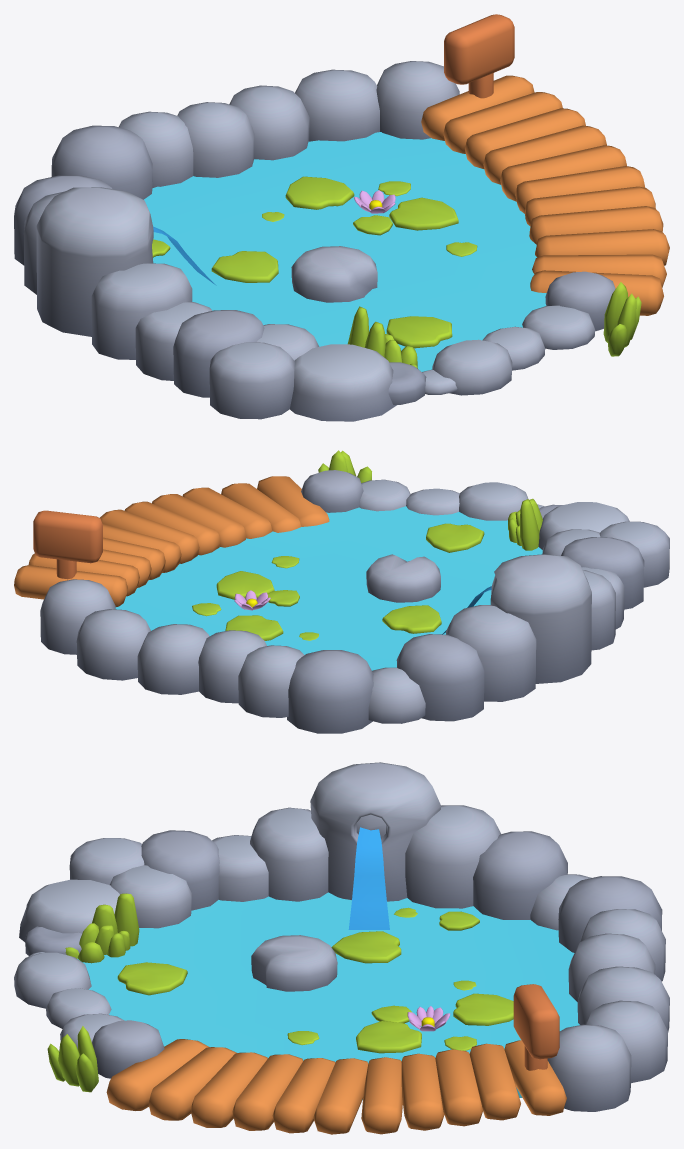
File: Pond.fbx
The picture shows the model from 3 angles, top to bottom: view 1: azimuth 30°, elevation 25°; view 2: azimuth 150°, elevation 25°; view 3: azimuth 270°, elevation 25°; orthographic projection. The views are drawn at different scales.
Visible parts, largest first — view 1: Plane, Cylinder.007, Cylinder.011, Cylinder.008, Cylinder.010, Cylinder.021, Cylinder.005, Cylinder.018, Cylinder.003, Cylinder.006, Cylinder.004, Cylinder.016 (+30 smaller); view 2: Plane, Cylinder.007, Cylinder.021, Cylinder, Cylinder.022, Cylinder.005, Cylinder.004, Cylinder.006, Cylinder.002, Cube.013, Cylinder.003, Cylinder.018 (+28 smaller); view 3: Plane, Cylinder.007, Cylinder.022, Cylinder, Cylinder.006, Cylinder.008, Cylinder.016, Cylinder.021, Cylinder.018, Cylinder.011, Cylinder.005, Cylinder.009 (+33 smaller).
Boxes of the visible parts, x1,y1,x2,y2 form: Plane: (144, 132, 546, 371); Cylinder.007: (36, 187, 153, 336); Cylinder.011: (290, 344, 396, 421); Cylinder.008: (91, 263, 192, 359); Cylinder.010: (209, 342, 294, 419); Cylinder.021: (51, 125, 152, 199); Cylinder.005: (295, 69, 379, 141); Cylinder.018: (173, 310, 264, 397); Cylinder.003: (177, 102, 254, 177); Cylinder.006: (376, 61, 459, 139); Cylinder.004: (229, 85, 309, 160); Cylinder.016: (291, 246, 377, 302); Plane: (115, 506, 542, 670); Cylinder.007: (490, 554, 591, 683); Cylinder.021: (287, 650, 373, 733); Cylinder: (396, 634, 484, 721); Cylinder.022: (446, 605, 536, 701); Cylinder.005: (76, 609, 150, 680); Cylinder.004: (137, 624, 209, 694); Cylinder.006: (40, 579, 115, 654); Cylinder.002: (238, 645, 304, 717); Cube.013: (33, 510, 102, 563); Cylinder.003: (198, 630, 266, 703); Cylinder.018: (561, 537, 644, 609); Plane: (77, 892, 579, 1100); Cylinder.007: (310, 762, 440, 901); Cylinder.022: (405, 805, 500, 908); Cylinder: (473, 831, 567, 919); Cylinder.006: (547, 1024, 631, 1111); Cylinder.008: (250, 807, 328, 901); Cylinder.016: (251, 935, 337, 991); Cylinder.021: (558, 876, 662, 952); Cylinder.018: (141, 830, 219, 910); Cylinder.011: (19, 879, 119, 942); Cylinder.005: (585, 1000, 667, 1083); Cylinder.009: (110, 865, 191, 928).
Size of the model in its own units: 1631 by 354 by 1591.
2 materials, 2 textured.
